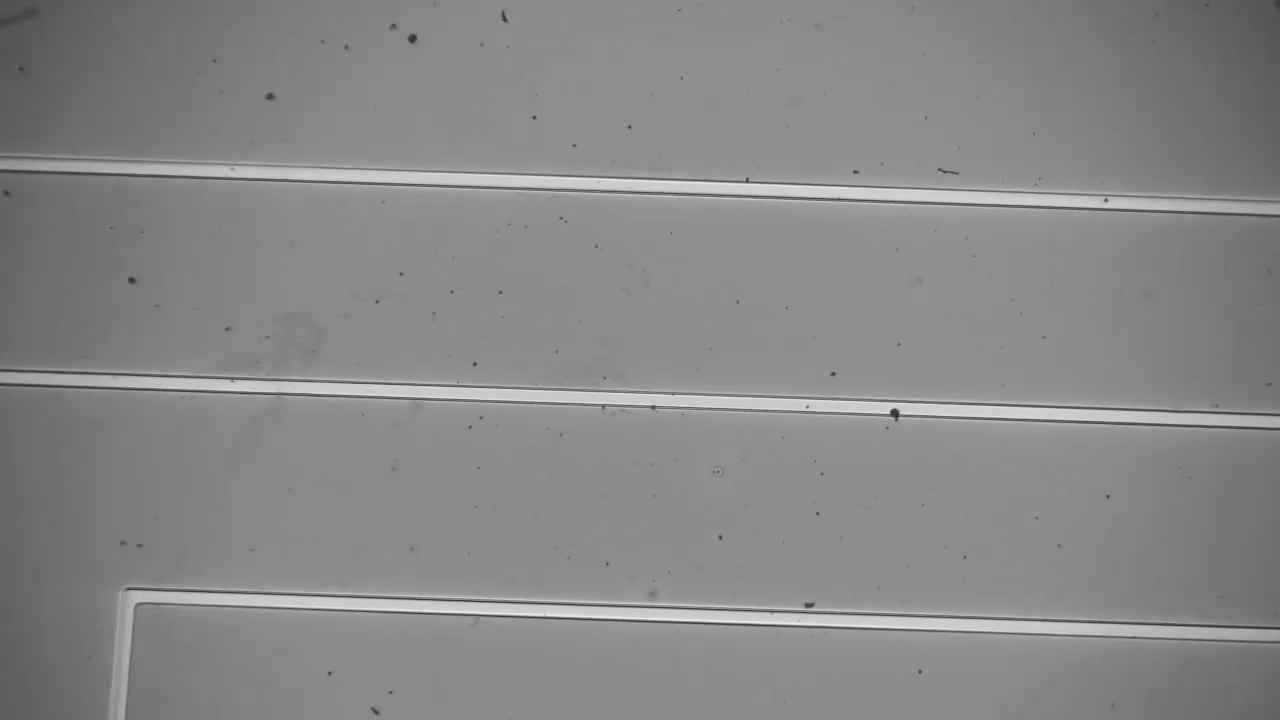stains_enbedded: (884, 392, 908, 427)
